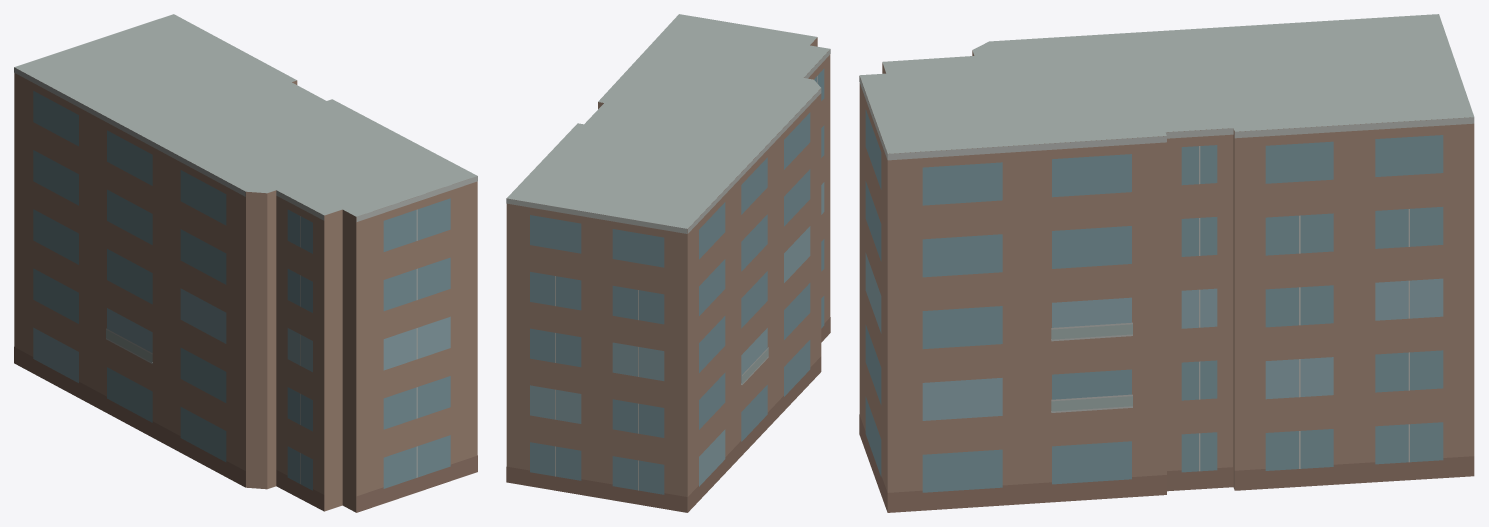
Rendered from survey-upis-32933766.glb.
3 views of the same model, side by side, from view 1: azimuth 30°, elevation 25°; view 2: azimuth 150°, elevation 25°; view 3: azimuth 270°, elevation 25° (orthographic). The views are drawn at different scales.
Parts seen in each view (by area): view 1: survey-upis-32933766.tmp; view 2: survey-upis-32933766.tmp; view 3: survey-upis-32933766.tmp.
Part boxes in pixels (<box>): survey-upis-32933766.tmp: <box>14,14,477,512</box>; survey-upis-32933766.tmp: <box>506,14,830,512</box>; survey-upis-32933766.tmp: <box>859,14,1474,512</box>.
Size of the model in its own units: 11.21 by 13.4 by 20.81.
